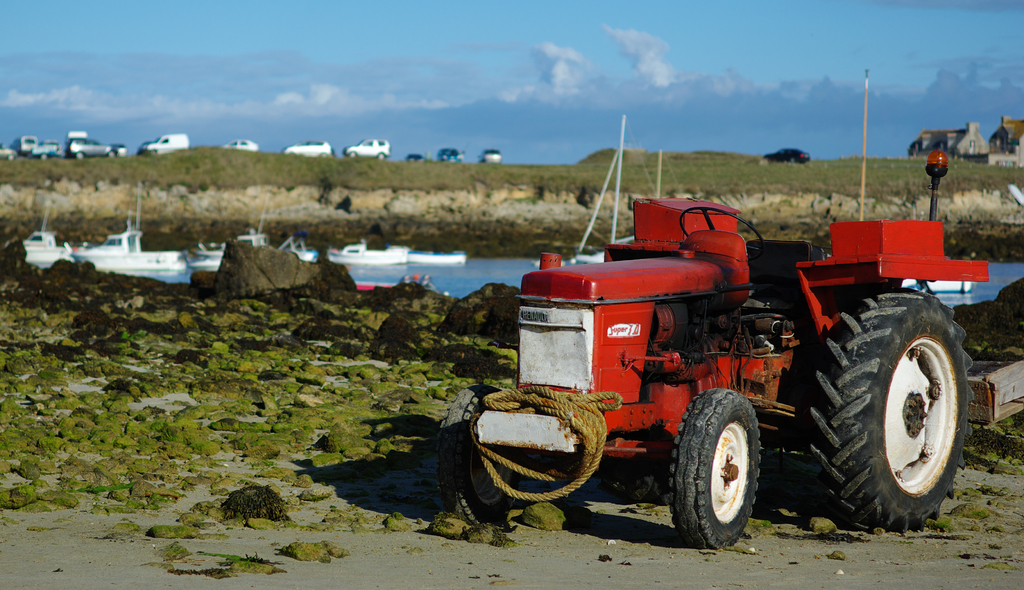cars: (64, 130, 112, 163), (139, 132, 187, 160), (343, 136, 392, 163), (282, 140, 330, 154), (481, 144, 507, 165)
